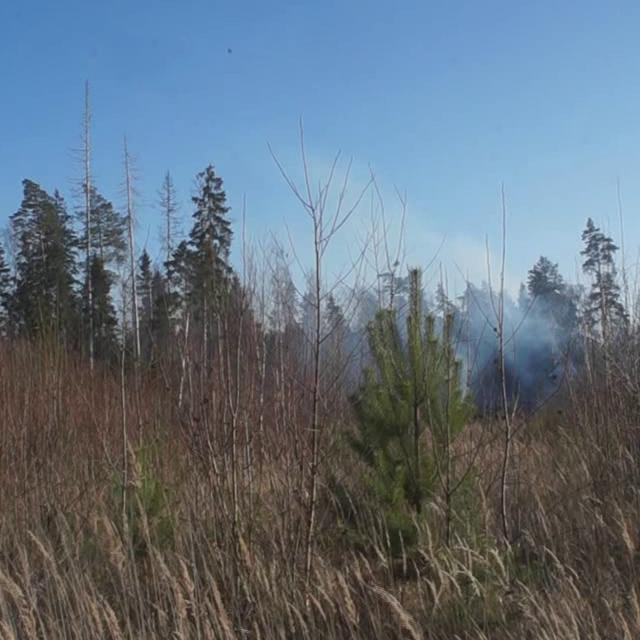Smoke: (266, 170, 576, 419)
